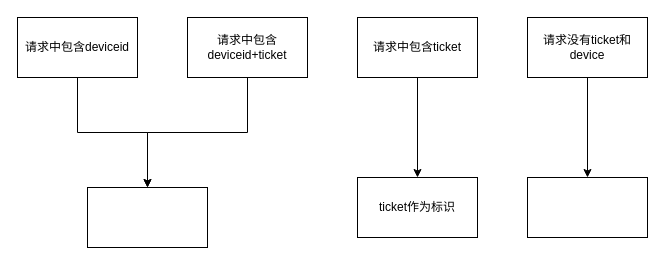
This 665x265 diagram has some shape labels left out. The centre of each missing label's shape, as x and y in pixels:
"deviceid 作为ticket标识" goes at pixel 147 217.
"提示更新APP或者重启浏览器" goes at pixel 587 207.
